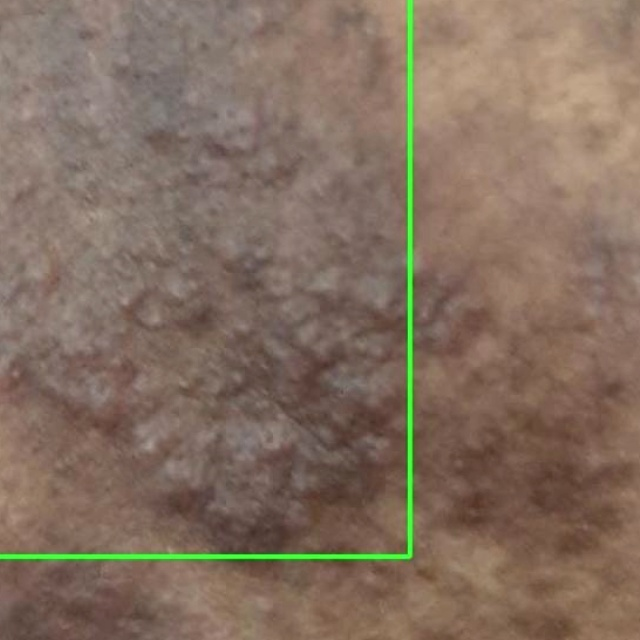Tinea Corporis: (0, 0, 409, 556)
